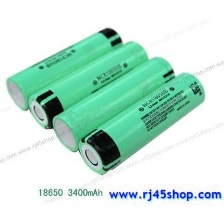battery: (75, 71, 206, 177), (49, 54, 177, 155), (26, 37, 150, 132), (5, 25, 126, 112)
